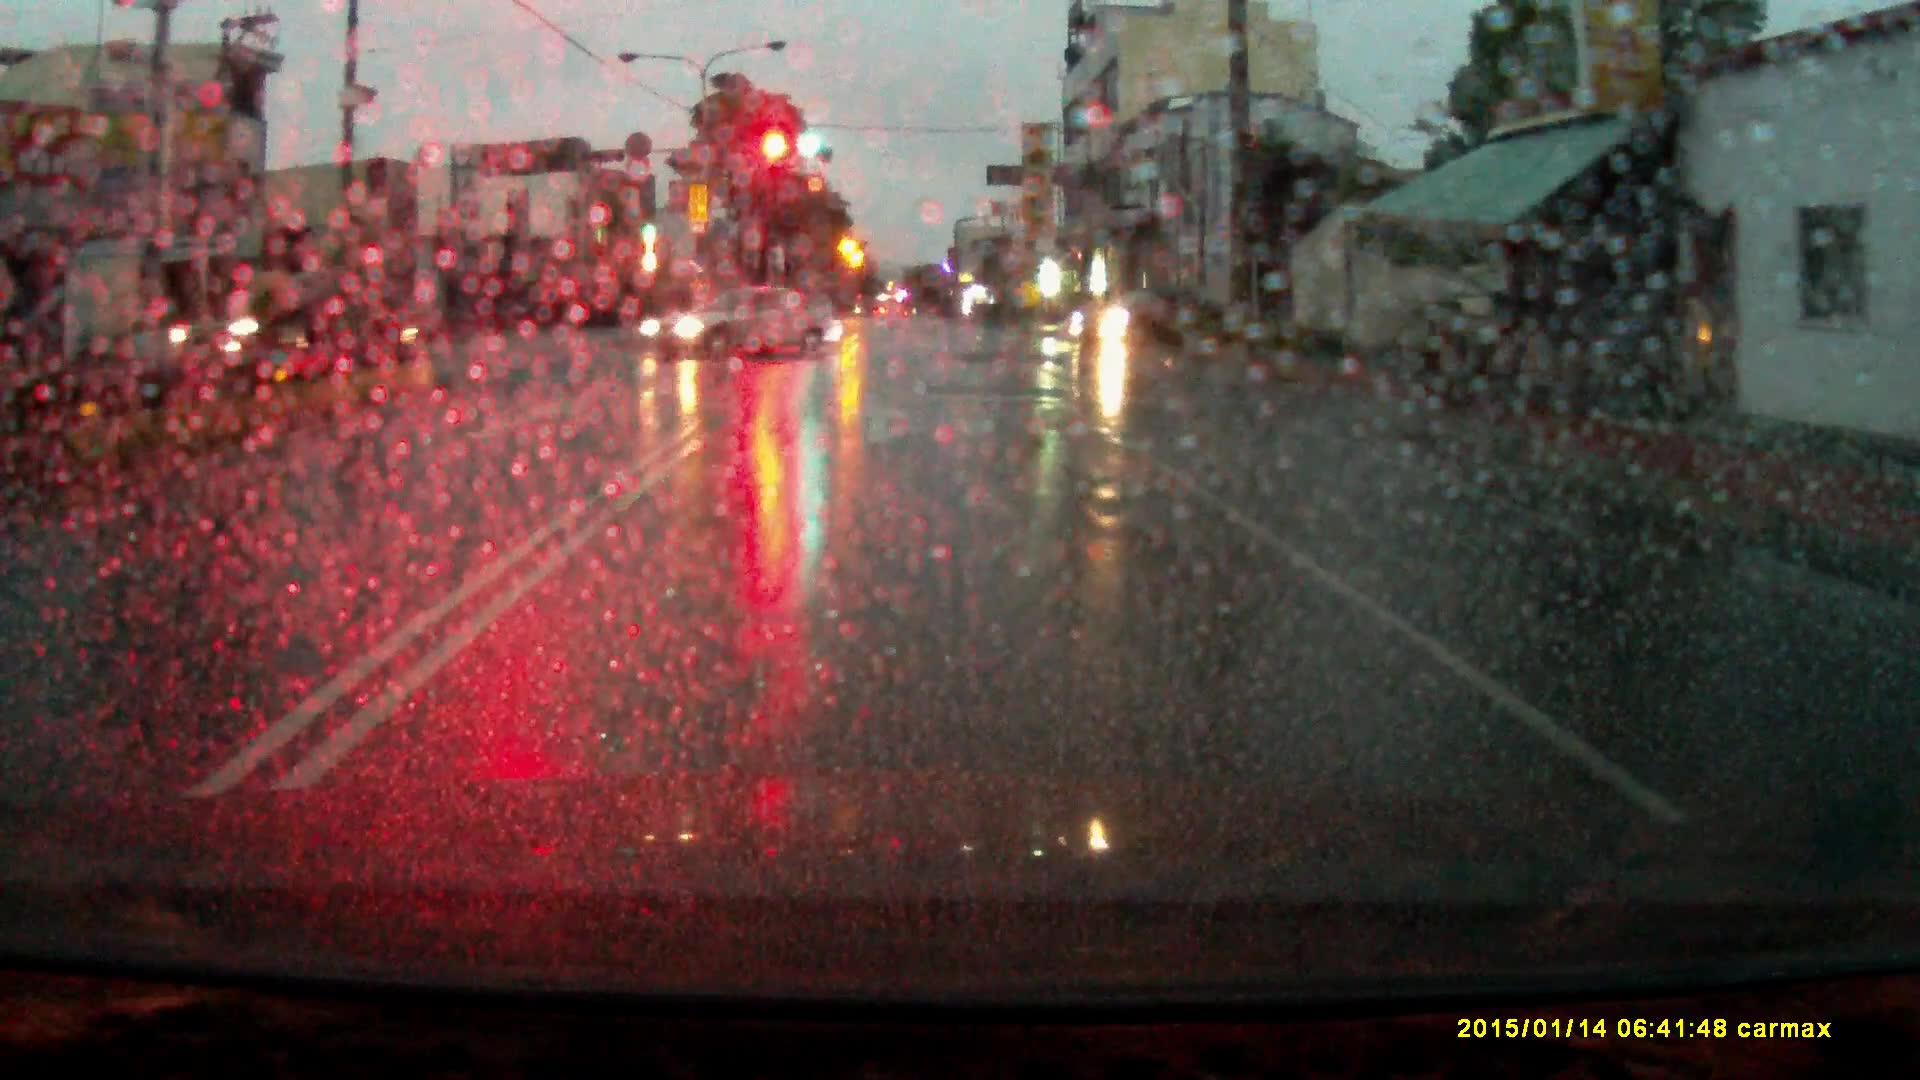vehicle: (171, 272, 430, 372), (636, 282, 848, 363), (1072, 290, 1232, 345)
